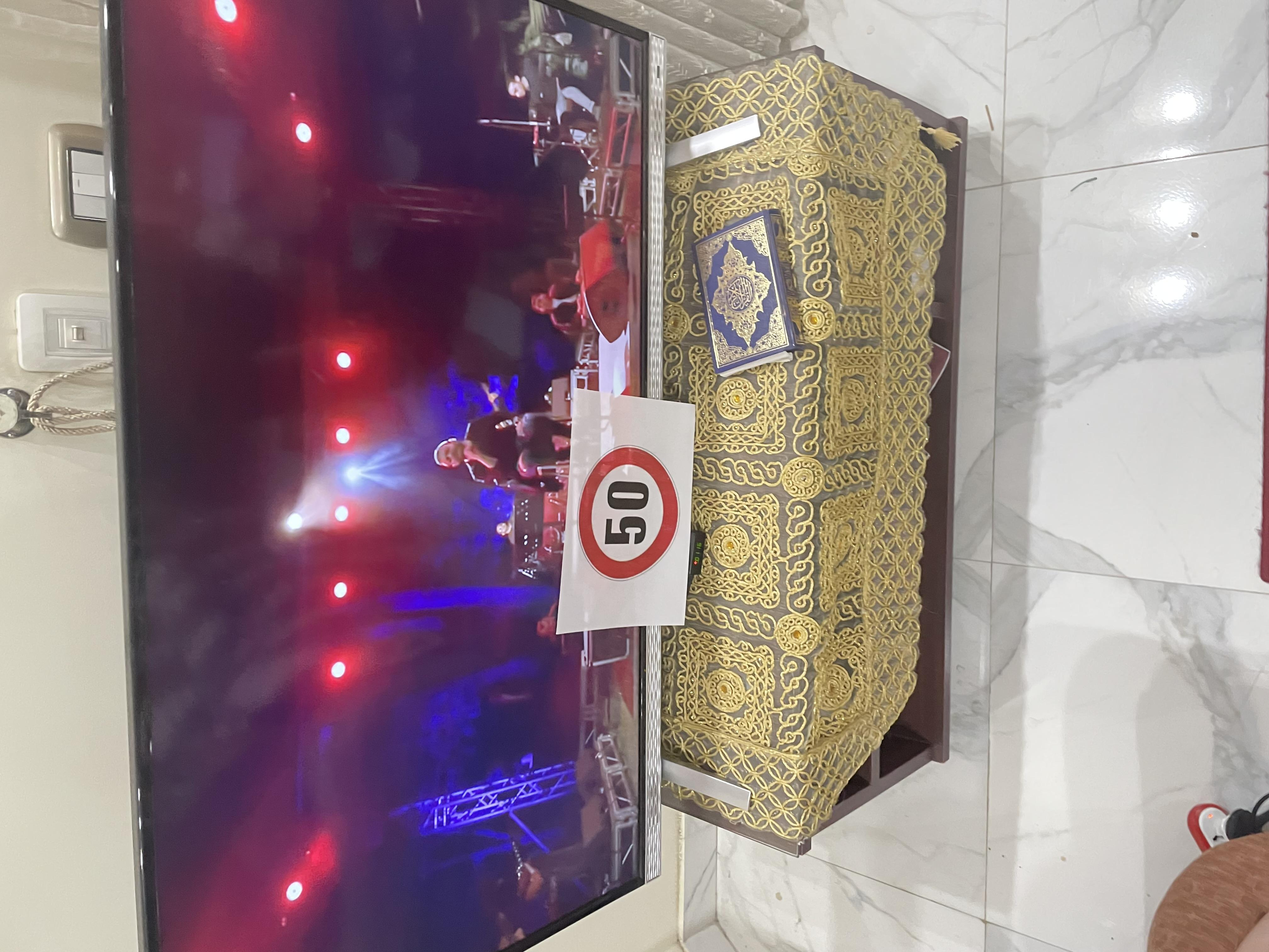50-Speed: (494, 431, 678, 513)
